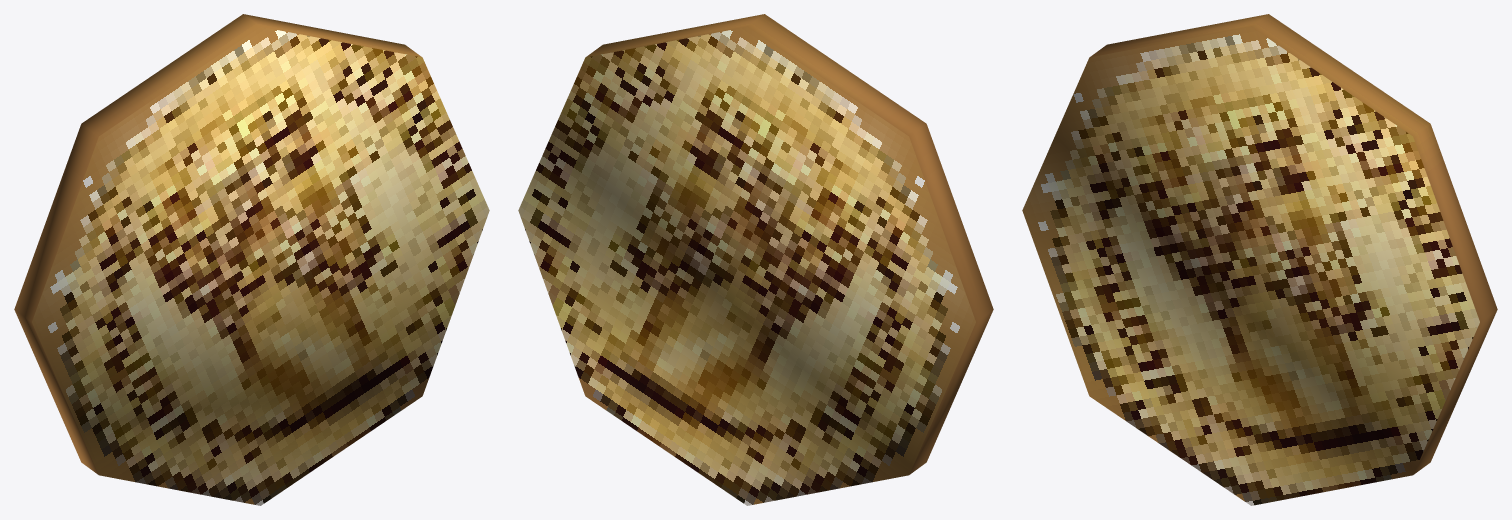
Rendered from aventine_coins_aureus.glb.
3 views of the same model, side by side, from view 1: azimuth 30°, elevation 25°; view 2: azimuth 150°, elevation 25°; view 3: azimuth 330°, elevation 25° (orthographic).
Visible parts, largest first — view 1: coin_07_aureus; view 2: coin_07_aureus; view 3: coin_07_aureus.
Boxes of the visible parts, box(x1,y1,x2,y2) form: coin_07_aureus: box(14, 14, 489, 505); coin_07_aureus: box(518, 14, 993, 505); coin_07_aureus: box(1022, 14, 1497, 505).
Bounding box in the file's own units: 0.3455 × 0.3455 × 0.0229.
Materials: 1 (1 with a texture image).
